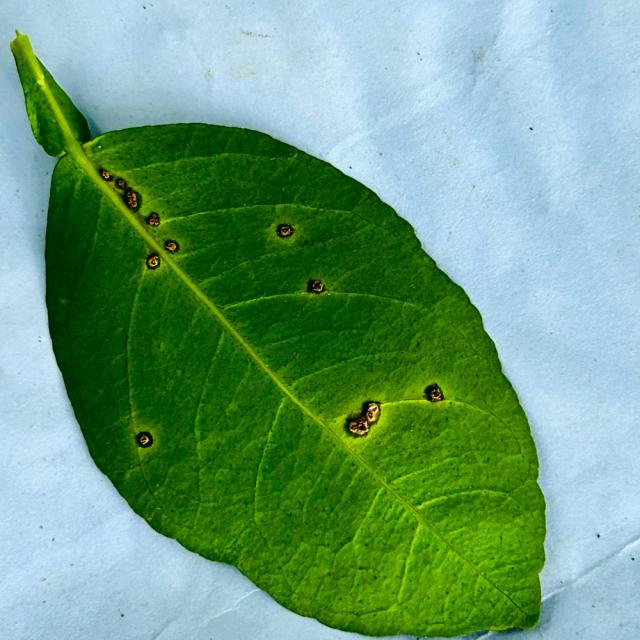Anthracnose: (348, 400, 382, 435), (146, 242, 182, 271), (273, 221, 299, 243), (423, 382, 444, 403), (305, 277, 328, 295), (134, 430, 155, 449), (122, 188, 139, 211), (162, 238, 179, 253), (146, 212, 161, 227), (147, 254, 160, 268), (101, 169, 112, 181)
Lemon: (8, 31, 548, 639)
